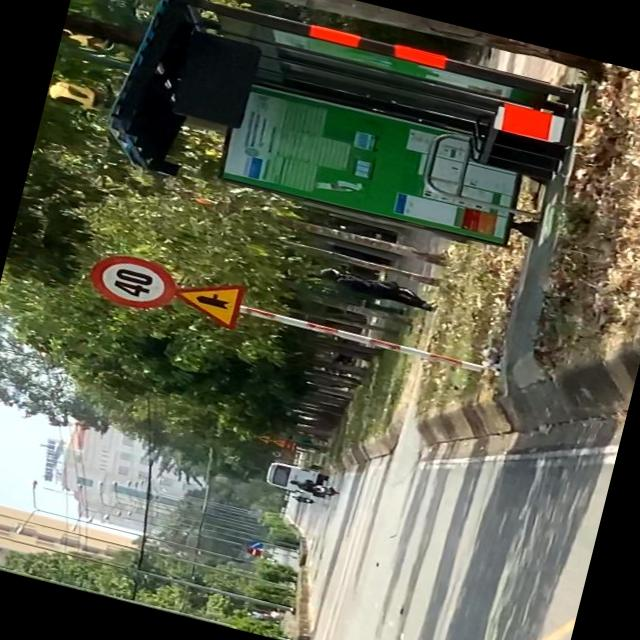P-127: (84, 246, 184, 316)
W-207b: (173, 272, 244, 330)
